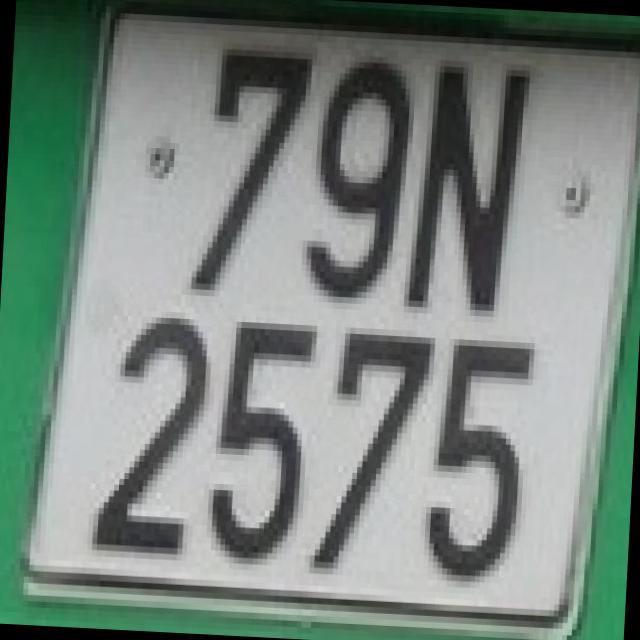2: (78, 296, 214, 556)
5: (191, 302, 323, 562), (409, 326, 540, 580)
7: (172, 28, 314, 300), (305, 314, 437, 568)
9: (290, 46, 417, 306)
N: (394, 46, 536, 312)
